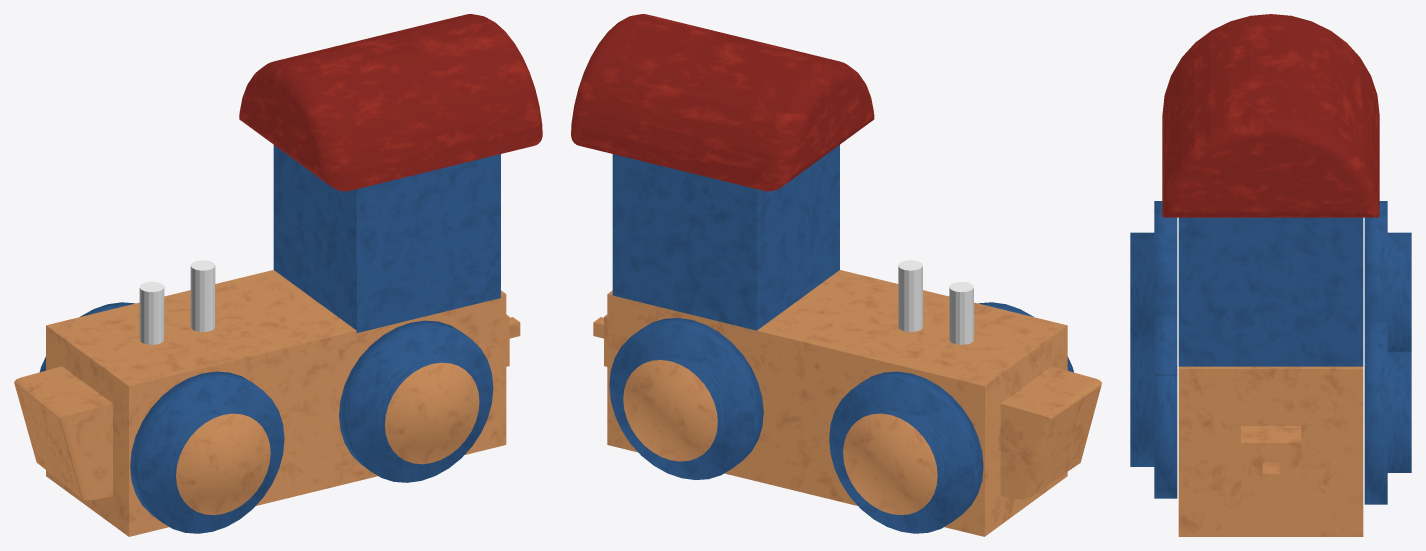
The model's file is train.glb.
3 renders of one model, left to right at view 1: azimuth 30°, elevation 25°; view 2: azimuth 150°, elevation 25°; view 3: azimuth 270°, elevation 25°, orthographic. The views are drawn at different scales.
Parts seen in each view (by area): view 1: Cube, Cylinder, Cube.001, Circle.001, Circle, Cylinder.001, Cylinder.002; view 2: Cube, Cylinder, Cube.001, Circle.002, Circle.003, Cylinder.001, Cylinder.002; view 3: Cylinder, Cube, Cube.001, Circle.001, Circle.003, Circle.002, Circle.
Boxes of the visible parts, x1,y1,x2,y2 form: Cube: (14,270,520,536); Cylinder: (239,14,542,191); Cube.001: (273,145,500,332); Circle.001: (339,320,493,482); Circle: (130,371,284,533); Cylinder.001: (190,260,215,331); Cylinder.002: (139,281,164,344); Cube: (593,270,1101,536); Cylinder: (571,14,874,191); Cube.001: (612,145,839,330); Circle.002: (829,371,983,533); Circle.003: (609,318,763,479); Cylinder.001: (898,260,922,331); Cylinder.002: (949,281,973,344); Cylinder: (1162,14,1379,217); Cube: (1178,366,1363,536); Cube.001: (1178,217,1363,366); Circle.001: (1130,314,1177,498); Circle.003: (1364,320,1411,504); Circle.002: (1364,201,1411,351); Circle: (1130,201,1177,345).
Size of the model in its own units: 6.68 by 5.21 by 3.04.
Materials: 5 (4 with a texture image).
